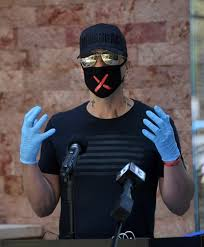mask: (83, 65, 122, 98)
